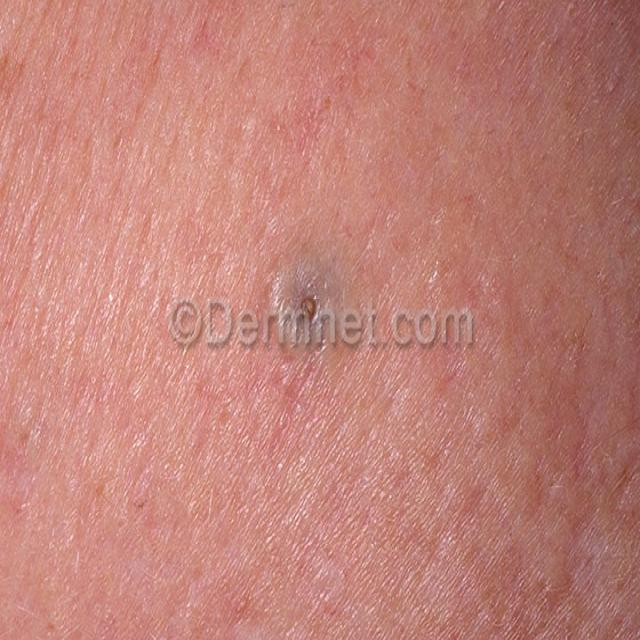acne: (504, 450, 640, 554), (257, 282, 340, 378)
